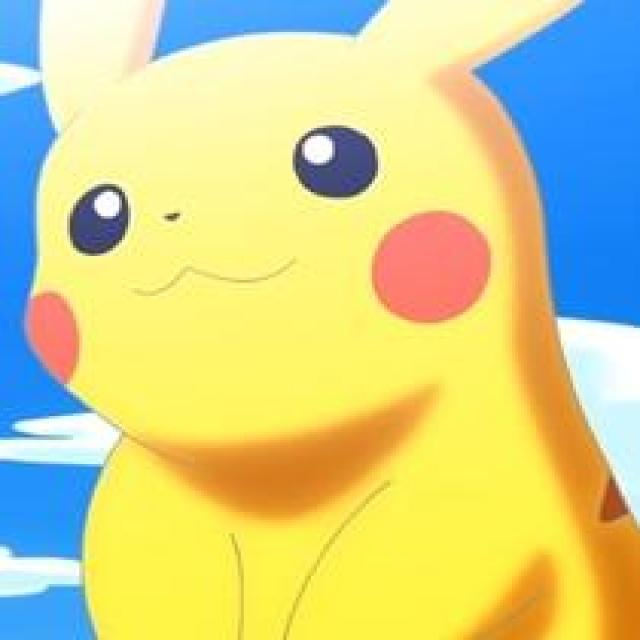pikachu: (25, 0, 640, 639)
